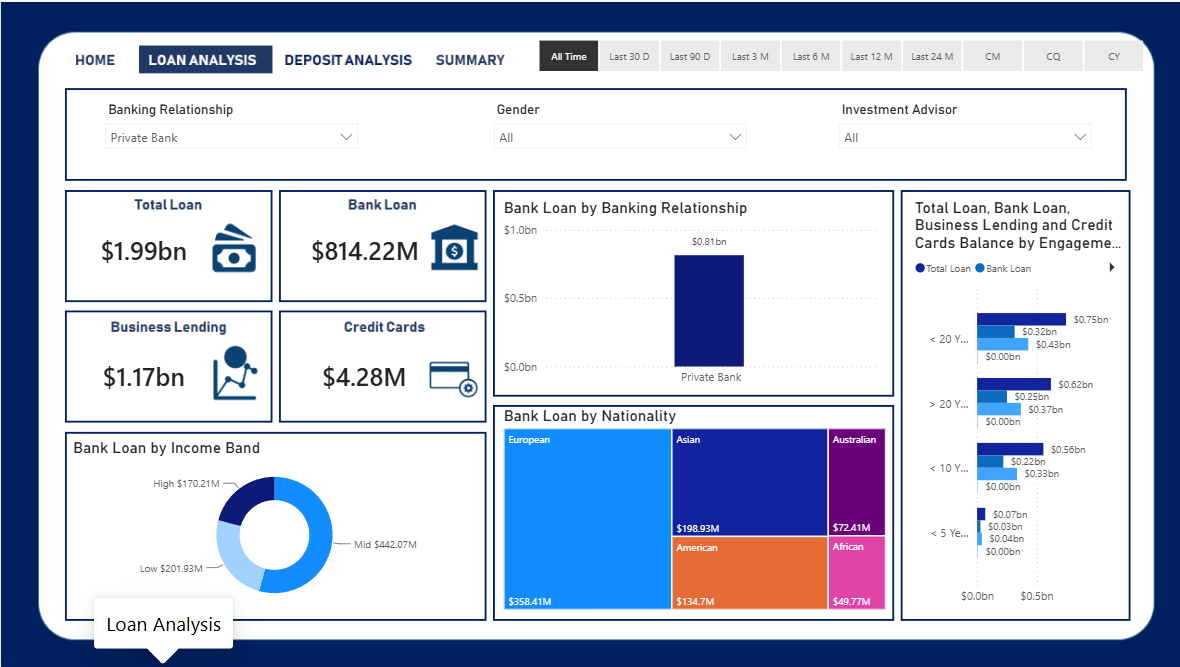

This screenshot's page, from the dashboard's own definition file:
{"tool":"powerbi","page":{"name":"Loan Analysis","canvas":[1280,720],"ordinal":1},"visuals":[{"type":"card","fields":{"Values":["DAX Measures.Total Loan"]},"box":[72.7,224,161.8,90.3],"z":0},{"type":"card","fields":{"Values":["DAX Measures.Bank Loan"]},"box":[307.2,224,172.4,89.1],"z":1000},{"type":"card","fields":{"Values":["DAX Measures.Credit Cards"]},"box":[307.2,360,171.2,89.1],"z":2000},{"type":"card","fields":{"Values":["DAX Measures.Business Lending"]},"box":[72.7,360,161.8,89.1],"z":3000},{"type":"slicer","fields":{"Values":["Banking Relationship.Banking Relationship"]},"box":[102.3,103.4,292.9,75.7],"z":4000},{"type":"slicer","fields":{"Values":["Gender.Gender"]},"box":[522.7,103.4,292.9,75.7],"z":5000},{"type":"slicer","fields":{"Values":["Investment Advisor.Investment Advisor"]},"box":[895,103.4,292.9,75.7],"z":6000},{"type":"donutChart","fields":{"Category":["Clients - Banking.Income Band"],"Y":["DAX Measures.Bank Loan"]},"box":[72.7,471.4,444.4,188.8],"z":7000},{"type":"clusteredBarChart","fields":{"Category":["Clients - Banking.Engagement Timeframe"],"Y":["DAX Measures.Total Loan","DAX Measures.Bank Loan","DAX Measures.Business Lending","DAX Measures.Credit Cards"]},"box":[981.5,212.2,236.9,447.9],"z":8000},{"type":"treemap","fields":{"Group":["Clients - Banking.Nationality"],"Values":["DAX Measures.Bank Loan"]},"box":[538.2,436.2,422.1,224],"z":9000},{"type":"lineClusteredColumnComboChart","fields":{"Y":["DAX Measures.Bank Loan"],"Category":["Banking Relationship.Banking Relationship"]},"box":[538.2,212.2,411.6,212.2],"z":10000},{"type":"slicer","fields":{"Values":["Period.Name"]},"box":[555.2,34.6,702.1,46.6],"z":11000},{"type":"actionButton","box":[72.8,44.2,58.5,31],"z":12000},{"type":"actionButton","box":[306.9,44.7,119.4,31],"z":13000},{"type":"actionButton","box":[471.6,44.2,83.6,31],"z":14000}]}

Visuals, with their boxes in screenshot pixels (x1, y1, x2, y2), scaled from the page's 1280x720 canvas onto the 1180x667 screenshot:
card - DAX Measures.Total Loan: 67,208,216,291
card - DAX Measures.Bank Loan: 283,208,442,290
card - DAX Measures.Credit Cards: 283,334,441,416
card - DAX Measures.Business Lending: 67,334,216,416
slicer - Banking Relationship.Banking Relationship: 94,96,364,166
slicer - Gender.Gender: 482,96,752,166
slicer - Investment Advisor.Investment Advisor: 825,96,1095,166
donutChart - Clients - Banking.Income Band x DAX Measures.Bank Loan: 67,437,477,612
clusteredBarChart - Clients - Banking.Engagement Timeframe x DAX Measures.Total Loan: 905,197,1123,612
treemap - Clients - Banking.Nationality x DAX Measures.Bank Loan: 496,404,885,612
lineClusteredColumnComboChart - DAX Measures.Bank Loan x Banking Relationship.Banking Relationship: 496,197,876,393
slicer - Period.Name: 512,32,1159,75
actionButton: 67,41,121,70
actionButton: 283,41,393,70
actionButton: 435,41,512,70
